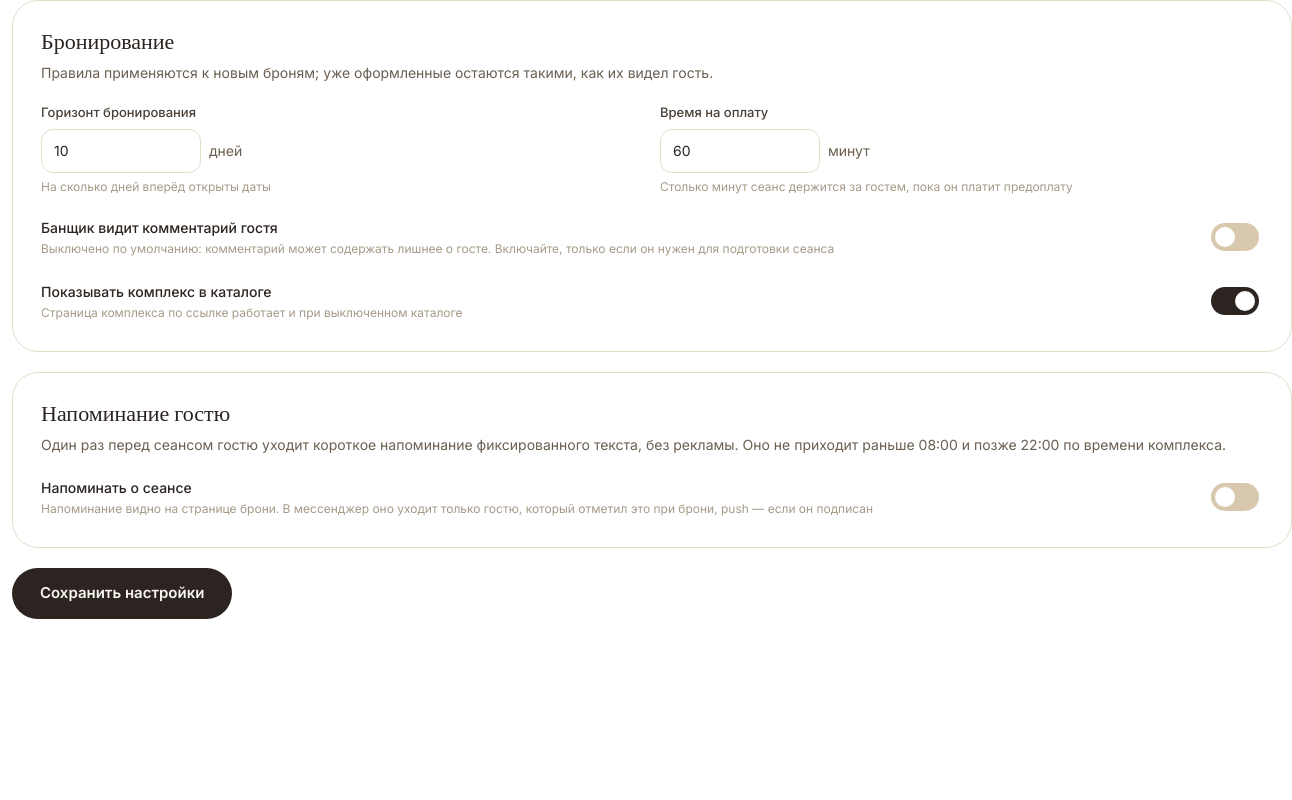
Scenario: BookingRulesCard reminder › does not send a form with a horizon out of range and says why
The image size is (1292, 800).
Click the button "Сохранить настройки" at (122, 593), box [12, 568, 232, 618]
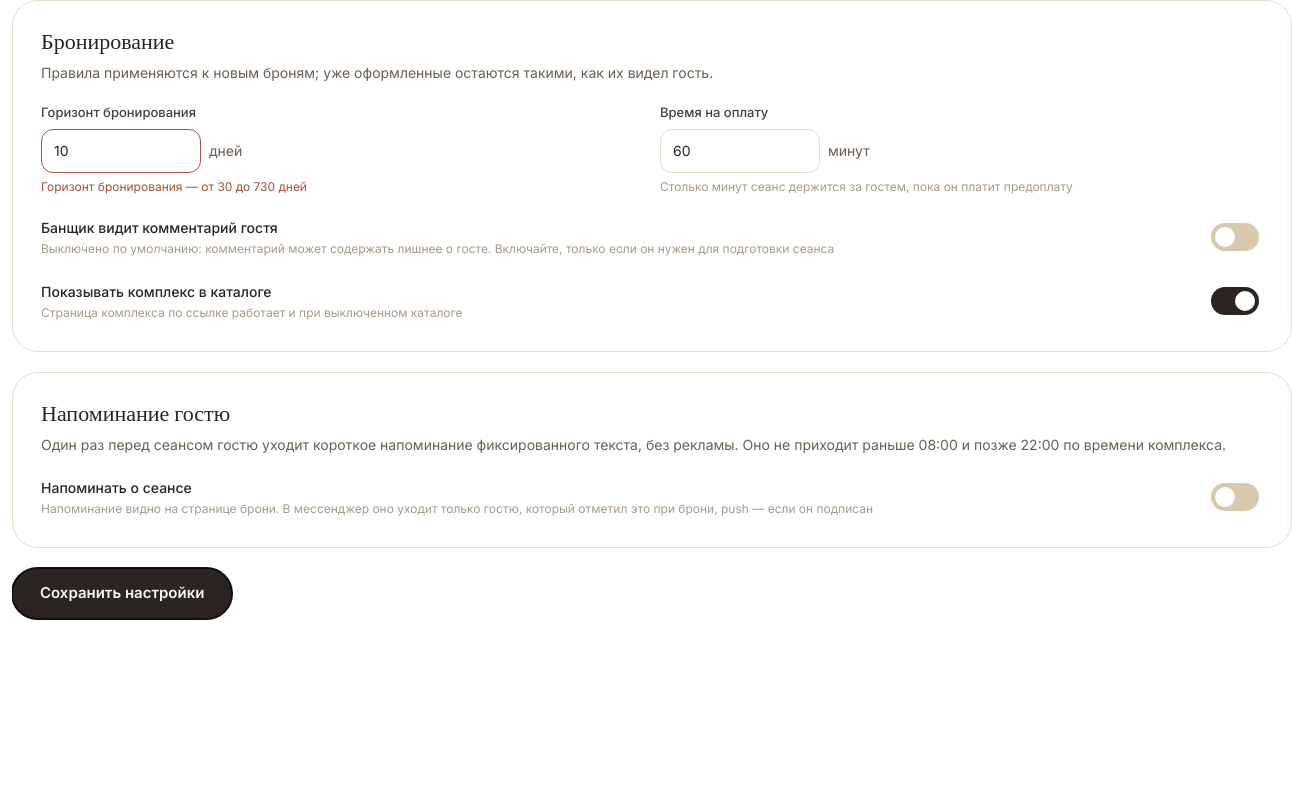
Expected: the text "Горизонт бронирования — от 30 до 730 дней" is shown, [41, 179, 307, 194]
